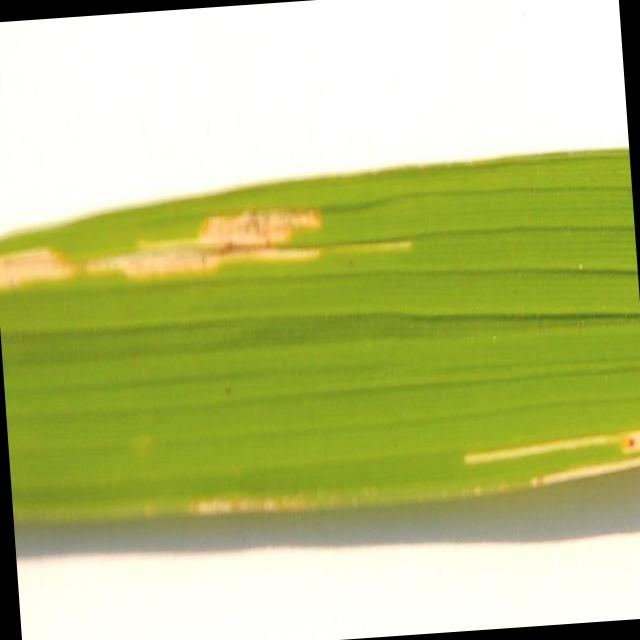Rice_Bacterial_Blight: (0, 159, 451, 322), (445, 390, 640, 577)
